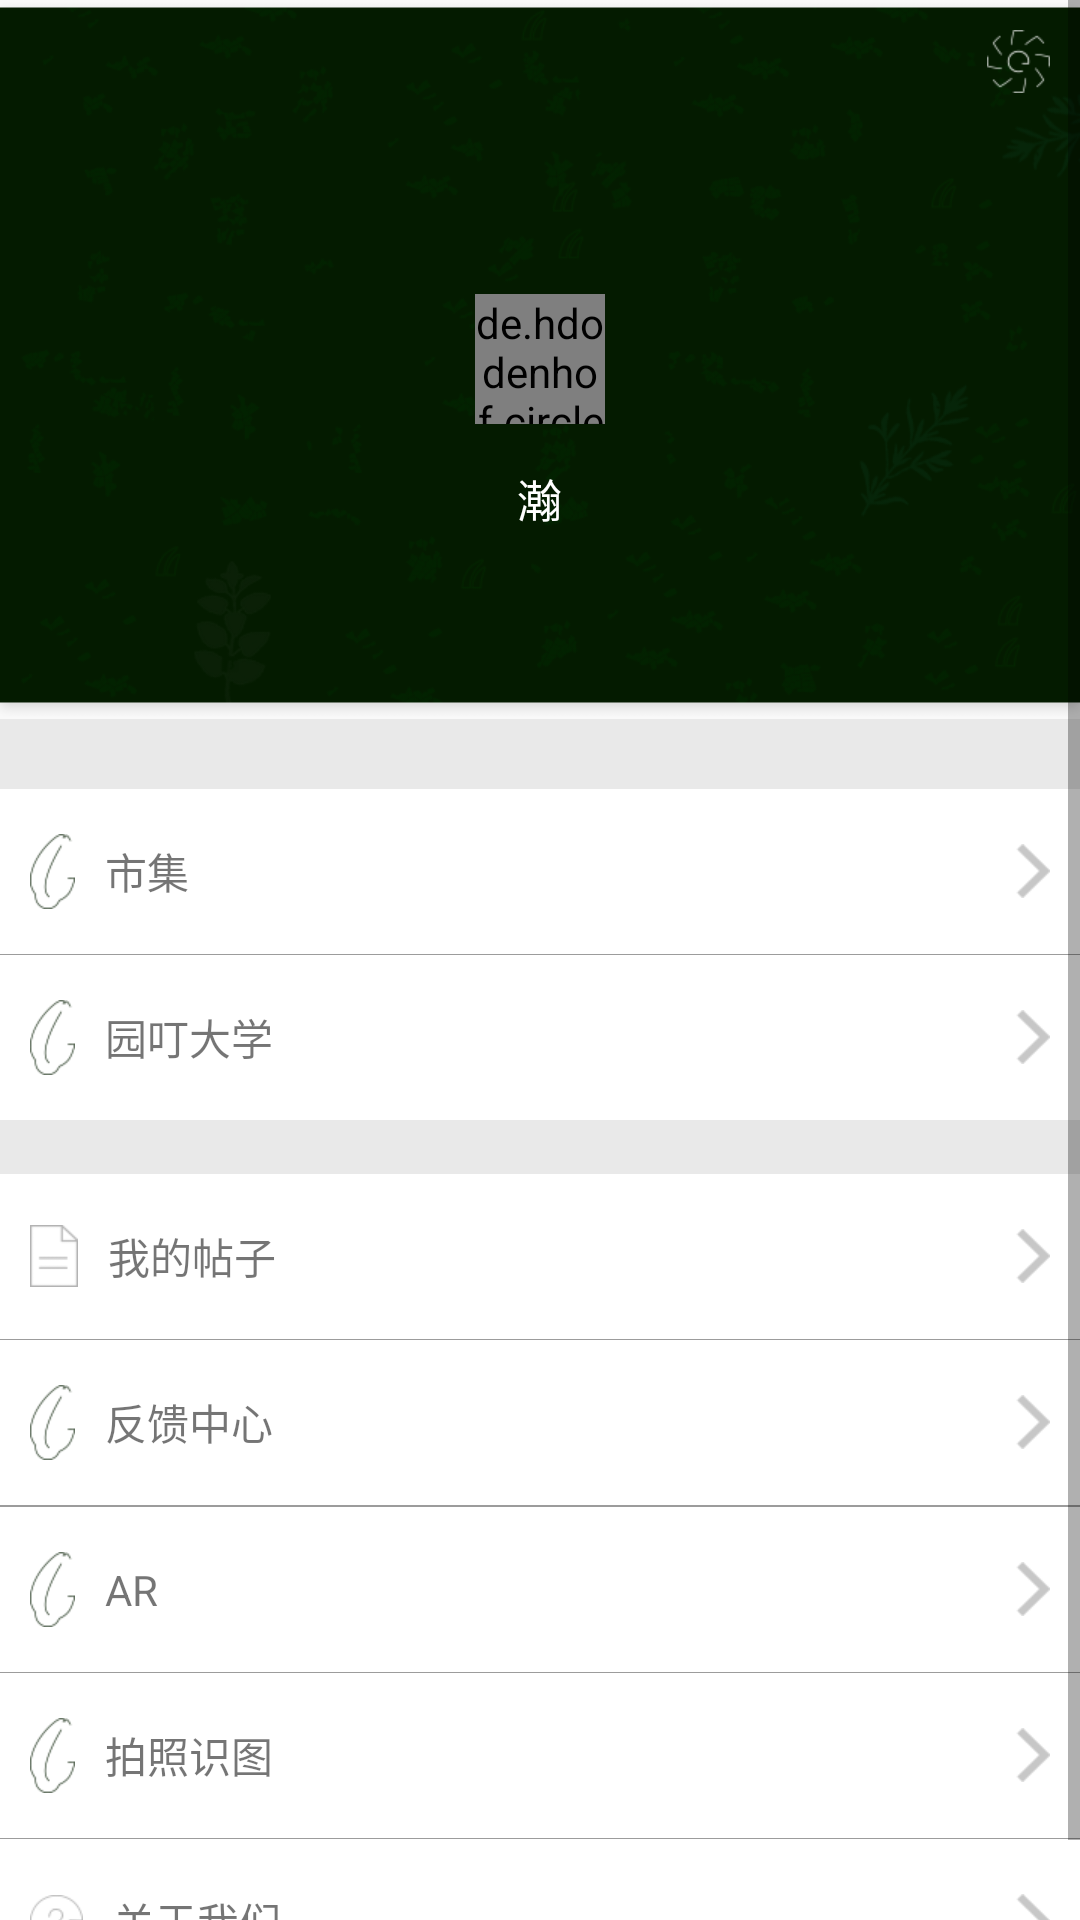

Icons on this 1080px x 1920px Android screen, each with the point to tap as (x=x, y=y):
tiezi: (x=54, y=1256)
